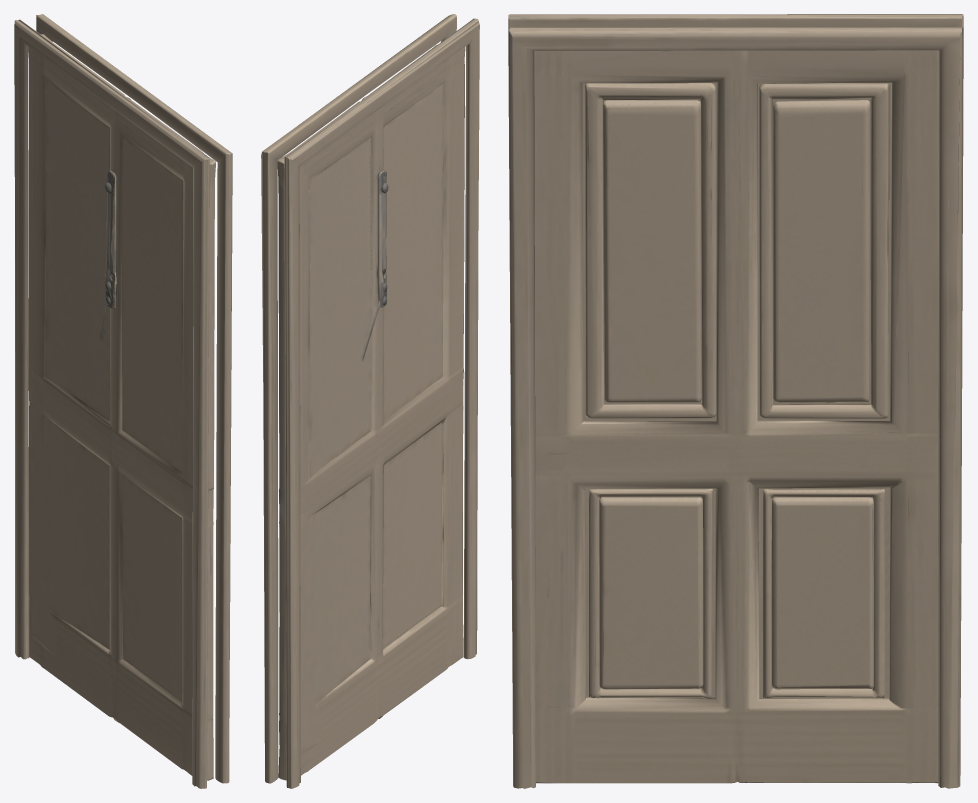
Rendered from Meshy_AI_cheap_hollow_core_door_0903105753_texture.glb.
The picture shows the model from 3 angles, left to right: view 1: azimuth 30°, elevation 25°; view 2: azimuth 150°, elevation 25°; view 3: azimuth 270°, elevation 25°; orthographic projection. The views are drawn at different scales.
Parts seen in each view (by area): view 1: mesh_node; view 2: mesh_node; view 3: mesh_node.
Boxes of the visible parts, box(x1,y1,x2,y2) form: mesh_node: box(14, 14, 232, 788); mesh_node: box(261, 14, 479, 788); mesh_node: box(508, 14, 963, 788).
Bounding box in the file's own units: 0.0555 × 1 × 0.5449.
Materials: 1 (1 with a texture image).
